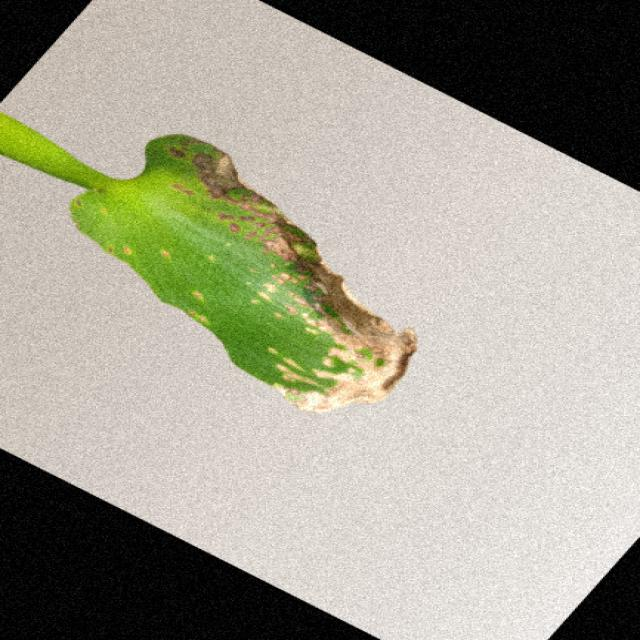daun berpenyakit bercak: (33, 174, 238, 371), (235, 262, 441, 423), (10, 108, 227, 176), (4, 161, 35, 427), (283, 205, 335, 268), (232, 150, 282, 204)
